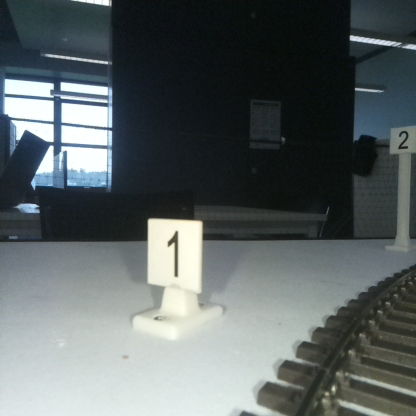white-info-2: (390, 128, 416, 248)
white-stop-1: (147, 220, 202, 330)
